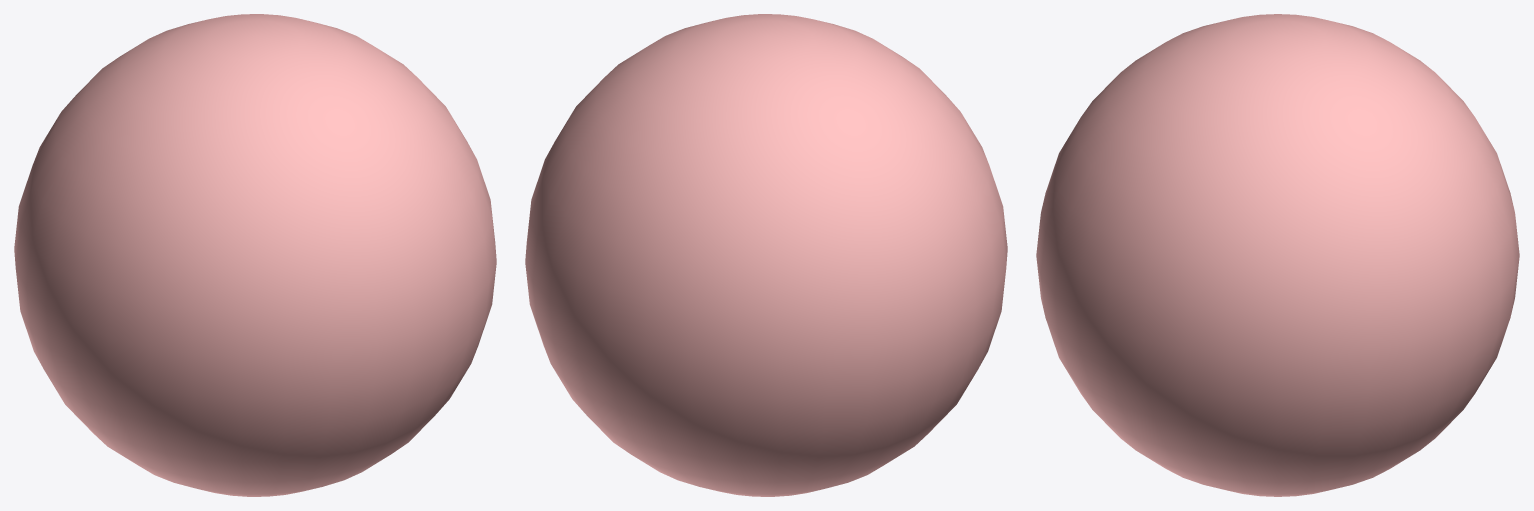
The picture shows the model from 3 angles, left to right: view 1: azimuth 30°, elevation 25°; view 2: azimuth 150°, elevation 25°; view 3: azimuth 270°, elevation 25°; orthographic projection.
Visible parts, largest first — view 1: DRAGON_SPHERE; view 2: DRAGON_SPHERE; view 3: DRAGON_SPHERE.
Part boxes in pixels (<box>): DRAGON_SPHERE: <box>14,14,496,496</box>; DRAGON_SPHERE: <box>525,14,1007,496</box>; DRAGON_SPHERE: <box>1036,14,1519,496</box>.
Size of the model in its own units: 56.92 by 56.92 by 56.92.
